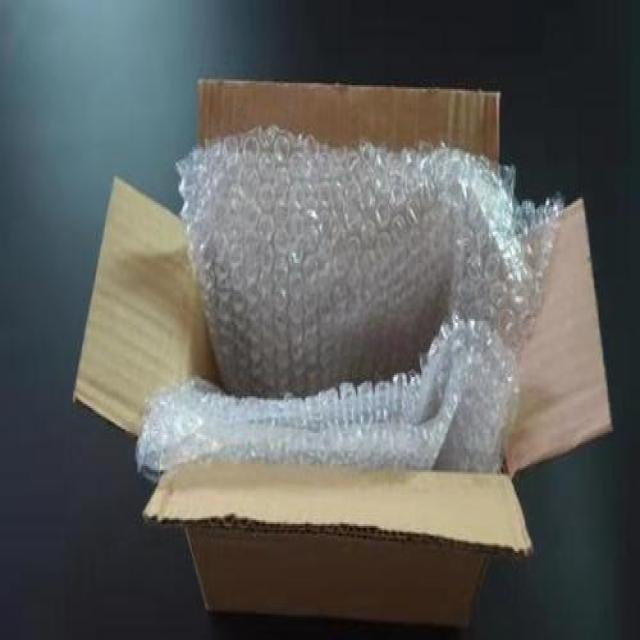-Recyclables - paper box-: (73, 75, 612, 633)
